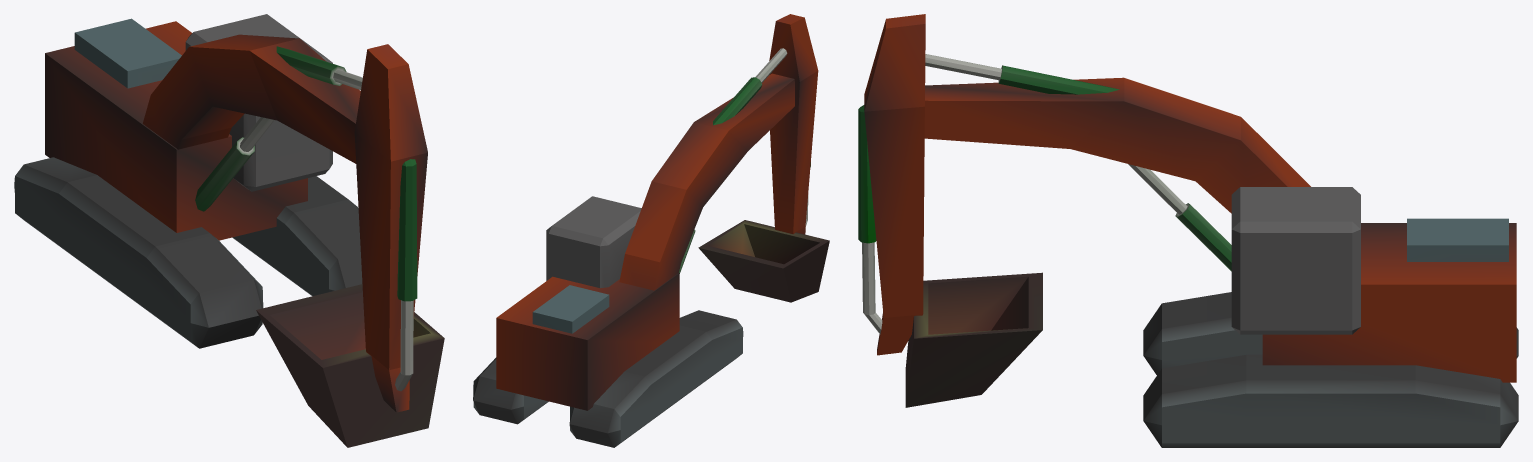
File: Escavadeira.fbx
3 renders of one model, left to right at view 1: azimuth 30°, elevation 25°; view 2: azimuth 150°, elevation 25°; view 3: azimuth 270°, elevation 25°, orthographic. The views are drawn at different scales.
Visible parts, largest first — view 1: LOD_0; view 2: LOD_0; view 3: LOD_0.
Part boxes in pixels (x1,y1,x2,y2): LOD_0: [14, 14, 444, 447]; LOD_0: [473, 14, 829, 447]; LOD_0: [858, 14, 1518, 447].
Size of what is drawn, in the model's own units: 388 by 675 by 1093.
